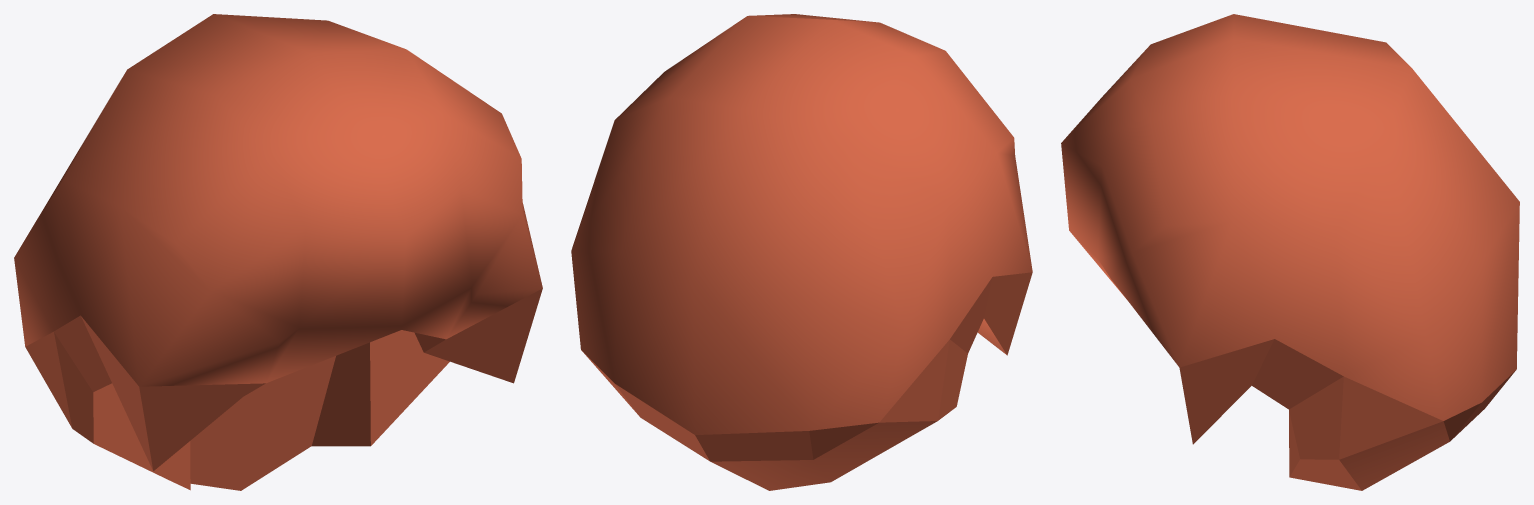
File: HairShortGinger.fbx
The picture shows the model from 3 angles, left to right: view 1: azimuth 30°, elevation 25°; view 2: azimuth 150°, elevation 25°; view 3: azimuth 270°, elevation 25°; orthographic projection. The views are drawn at different scales.
Visible parts, largest first — view 1: HairShortGinger; view 2: HairShortGinger; view 3: HairShortGinger.
Part boxes in pixels (left/top/right/bottom): HairShortGinger: left=14, top=14, right=542, bottom=490; HairShortGinger: left=571, top=14, right=1032, bottom=490; HairShortGinger: left=1061, top=14, right=1519, bottom=490.
Size of the model in its own units: 51.57 by 57.85 by 54.02.
